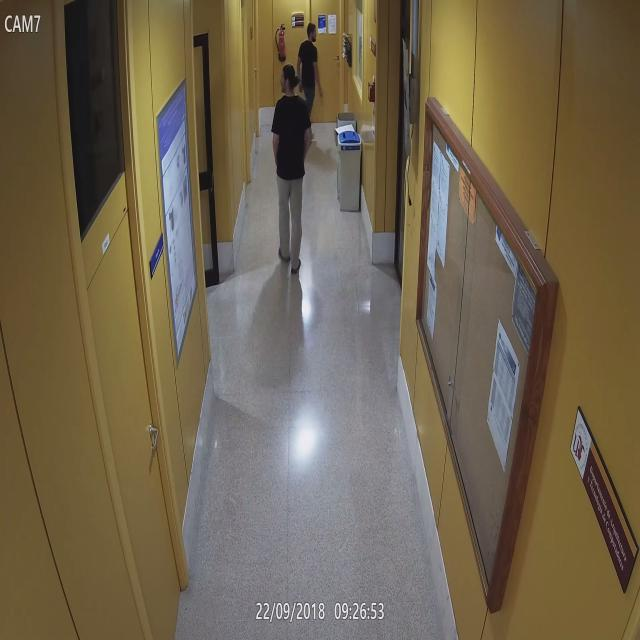Gun: (317, 88, 326, 106)
